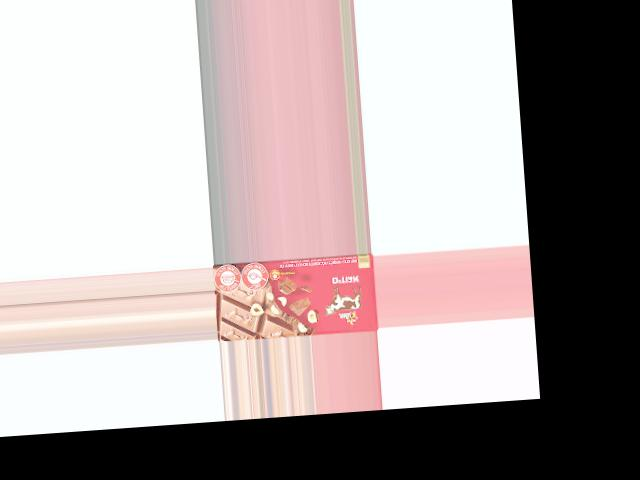chocolate: (213, 255, 379, 341)
